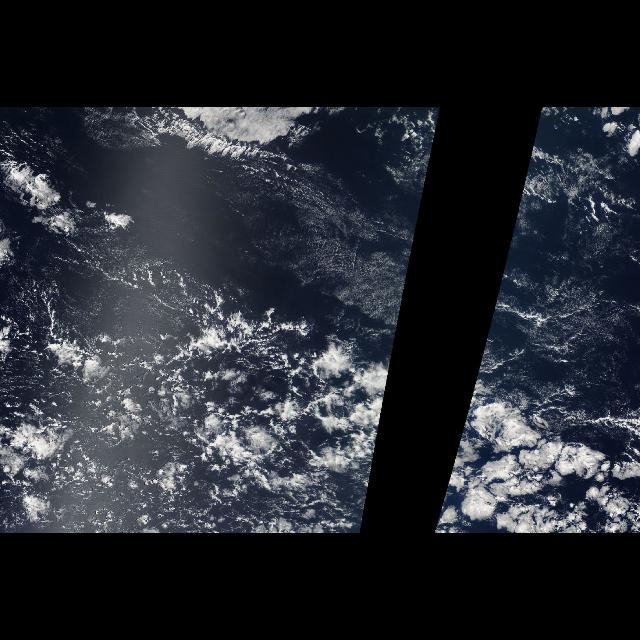Flower: (433, 391, 639, 533), (327, 391, 387, 533)
Gravel: (2, 312, 356, 532)
Sugar: (208, 139, 434, 371), (476, 139, 638, 405), (44, 248, 198, 328)
